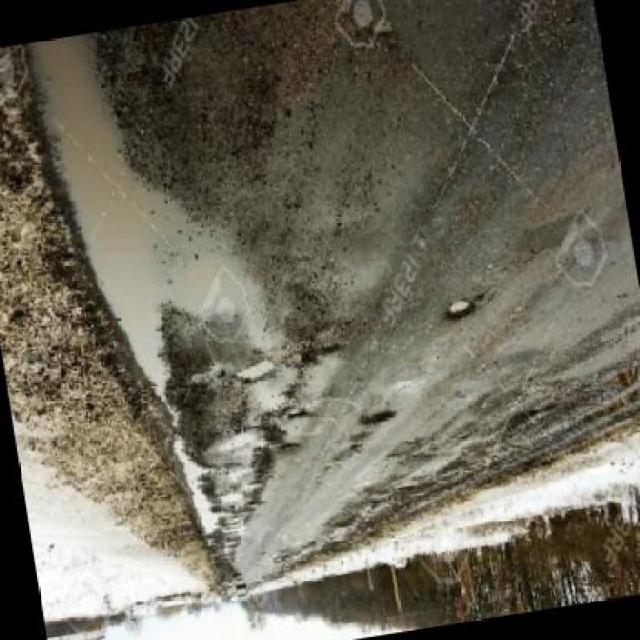pothole1: (232, 357, 278, 388), (443, 294, 479, 324), (358, 408, 399, 430), (287, 406, 307, 422)
